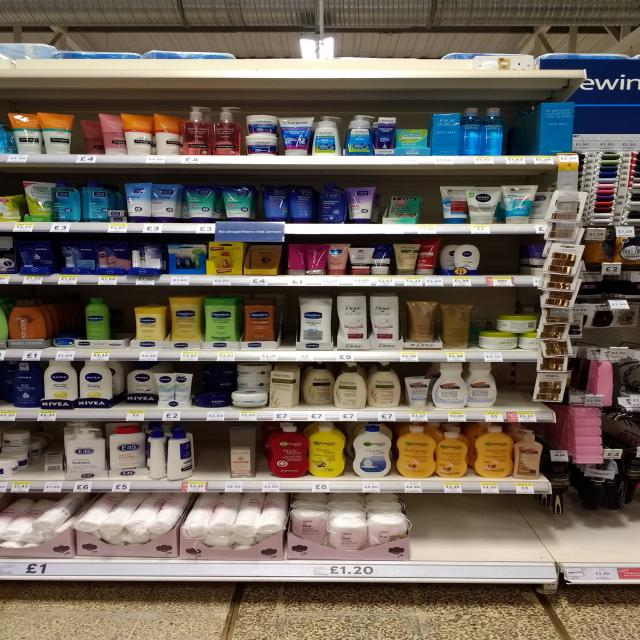void: (412, 494, 455, 580), (502, 495, 542, 582), (460, 496, 498, 582), (195, 422, 229, 492), (503, 364, 536, 422), (419, 172, 446, 234), (277, 289, 298, 361), (110, 290, 132, 358), (489, 233, 517, 286), (511, 99, 535, 155)
